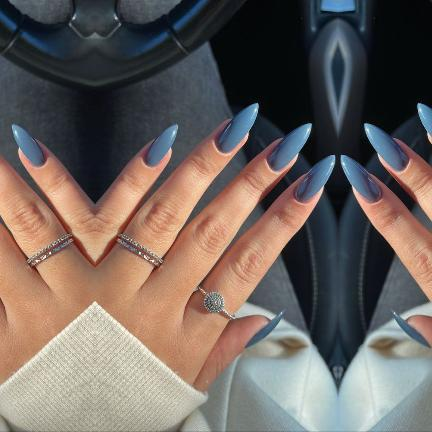Nail: (266, 123, 311, 171), (363, 123, 408, 171), (215, 103, 258, 153), (293, 155, 335, 203), (340, 155, 381, 203), (143, 124, 177, 167), (11, 124, 45, 167), (245, 310, 284, 347), (390, 310, 429, 347), (416, 103, 432, 138)
